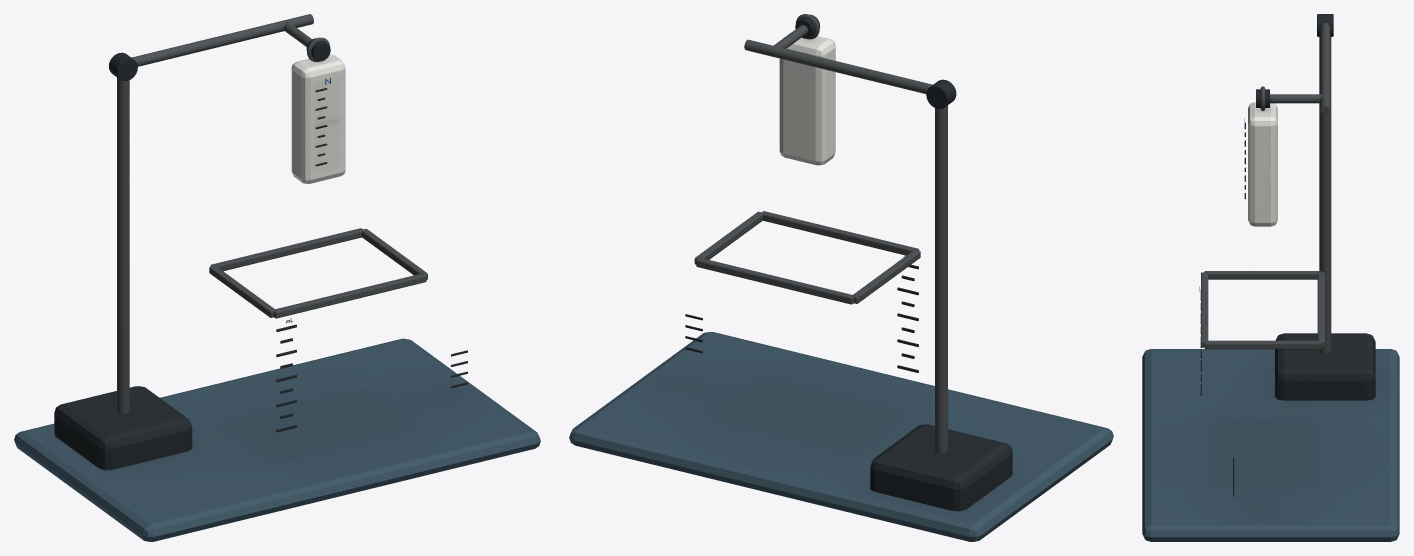
3 views of the same model, side by side, from view 1: azimuth 30°, elevation 25°; view 2: azimuth 150°, elevation 25°; view 3: azimuth 270°, elevation 25° (orthographic). The views are drawn at different scales.
Bounding box in the file's own units: 2.16 × 2.1 × 1.28.
Materials: 1 (1 with a texture image).
